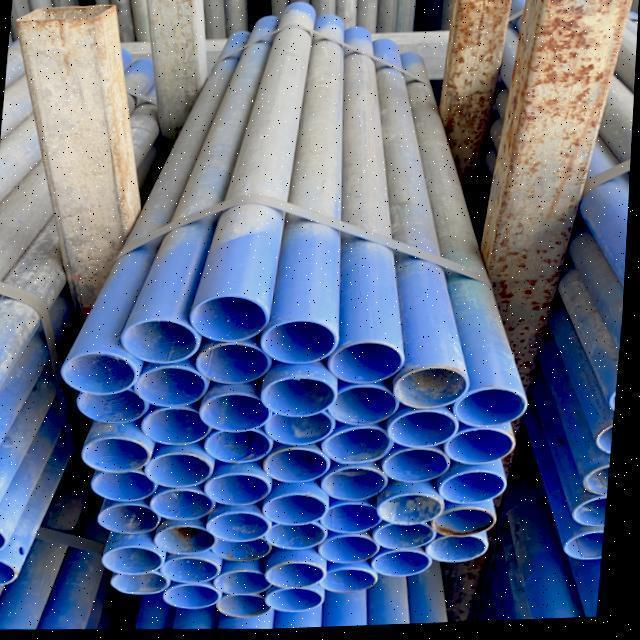pipe: (59, 345, 149, 402), (120, 316, 208, 370), (261, 317, 347, 372), (189, 292, 273, 348), (329, 339, 411, 392), (390, 366, 472, 417), (73, 380, 155, 431), (194, 341, 275, 392), (450, 385, 532, 435), (133, 362, 213, 413), (198, 388, 275, 437), (264, 377, 342, 425), (139, 403, 218, 450), (387, 410, 464, 455), (83, 432, 158, 478), (328, 385, 403, 430), (443, 427, 516, 473), (263, 410, 340, 453), (324, 425, 399, 469), (147, 448, 218, 493), (381, 493, 447, 541), (265, 446, 336, 490), (438, 467, 507, 512), (205, 429, 278, 471), (384, 447, 457, 488), (88, 465, 161, 506), (206, 468, 277, 510), (148, 486, 219, 527), (105, 540, 176, 580), (323, 467, 390, 509), (209, 510, 276, 552), (100, 498, 166, 539), (437, 504, 504, 544), (155, 523, 229, 559), (267, 492, 335, 530), (321, 533, 385, 573), (322, 497, 386, 537), (161, 554, 234, 589), (267, 558, 333, 596), (161, 582, 232, 616), (266, 523, 335, 557), (319, 568, 391, 600), (209, 534, 279, 566), (374, 548, 437, 583), (111, 569, 184, 599), (219, 567, 283, 601), (216, 592, 284, 622), (264, 590, 335, 618), (426, 540, 496, 568), (0, 553, 28, 586), (0, 519, 21, 558), (0, 488, 6, 526)
